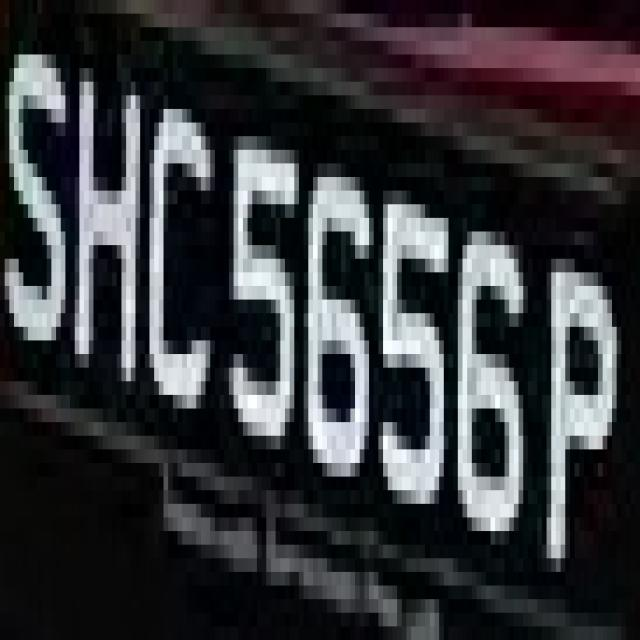5: (374, 163, 453, 531), (229, 109, 294, 477)
6: (453, 150, 523, 544), (304, 122, 374, 504)
C: (145, 95, 215, 436)
H: (70, 27, 140, 436)
P: (537, 218, 617, 585)
S: (0, 0, 70, 395)
